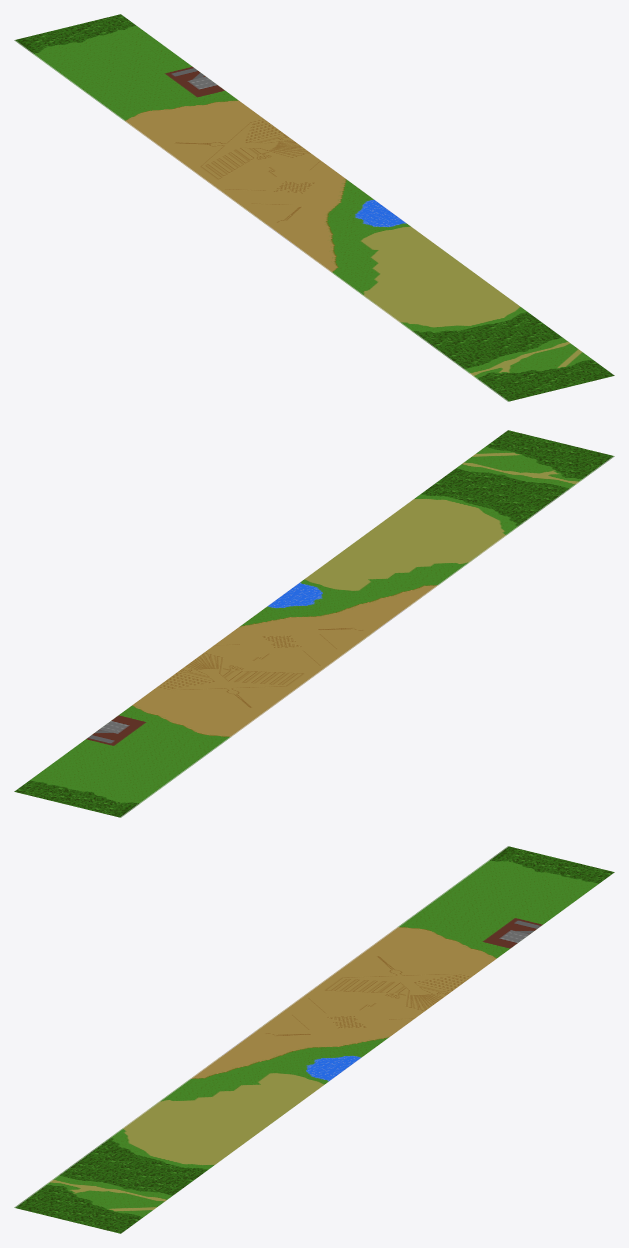
File: BackGround.fbx
The picture shows the model from 3 angles, top to bottom: view 1: azimuth 30°, elevation 25°; view 2: azimuth 150°, elevation 25°; view 3: azimuth 330°, elevation 25°; orthographic projection.
Parts seen in each view (by area): view 1: pPlane1; view 2: pPlane1; view 3: pPlane1.
Boxes of the visible parts, x1=… form: pPlane1: x1=14, y1=14, x2=614, y2=401; pPlane1: x1=14, y1=430, x2=614, y2=817; pPlane1: x1=14, y1=846, x2=614, y2=1233.
Bounding box in the file's own units: 0.5 × 0 × 4.
1 material, 1 textured.
